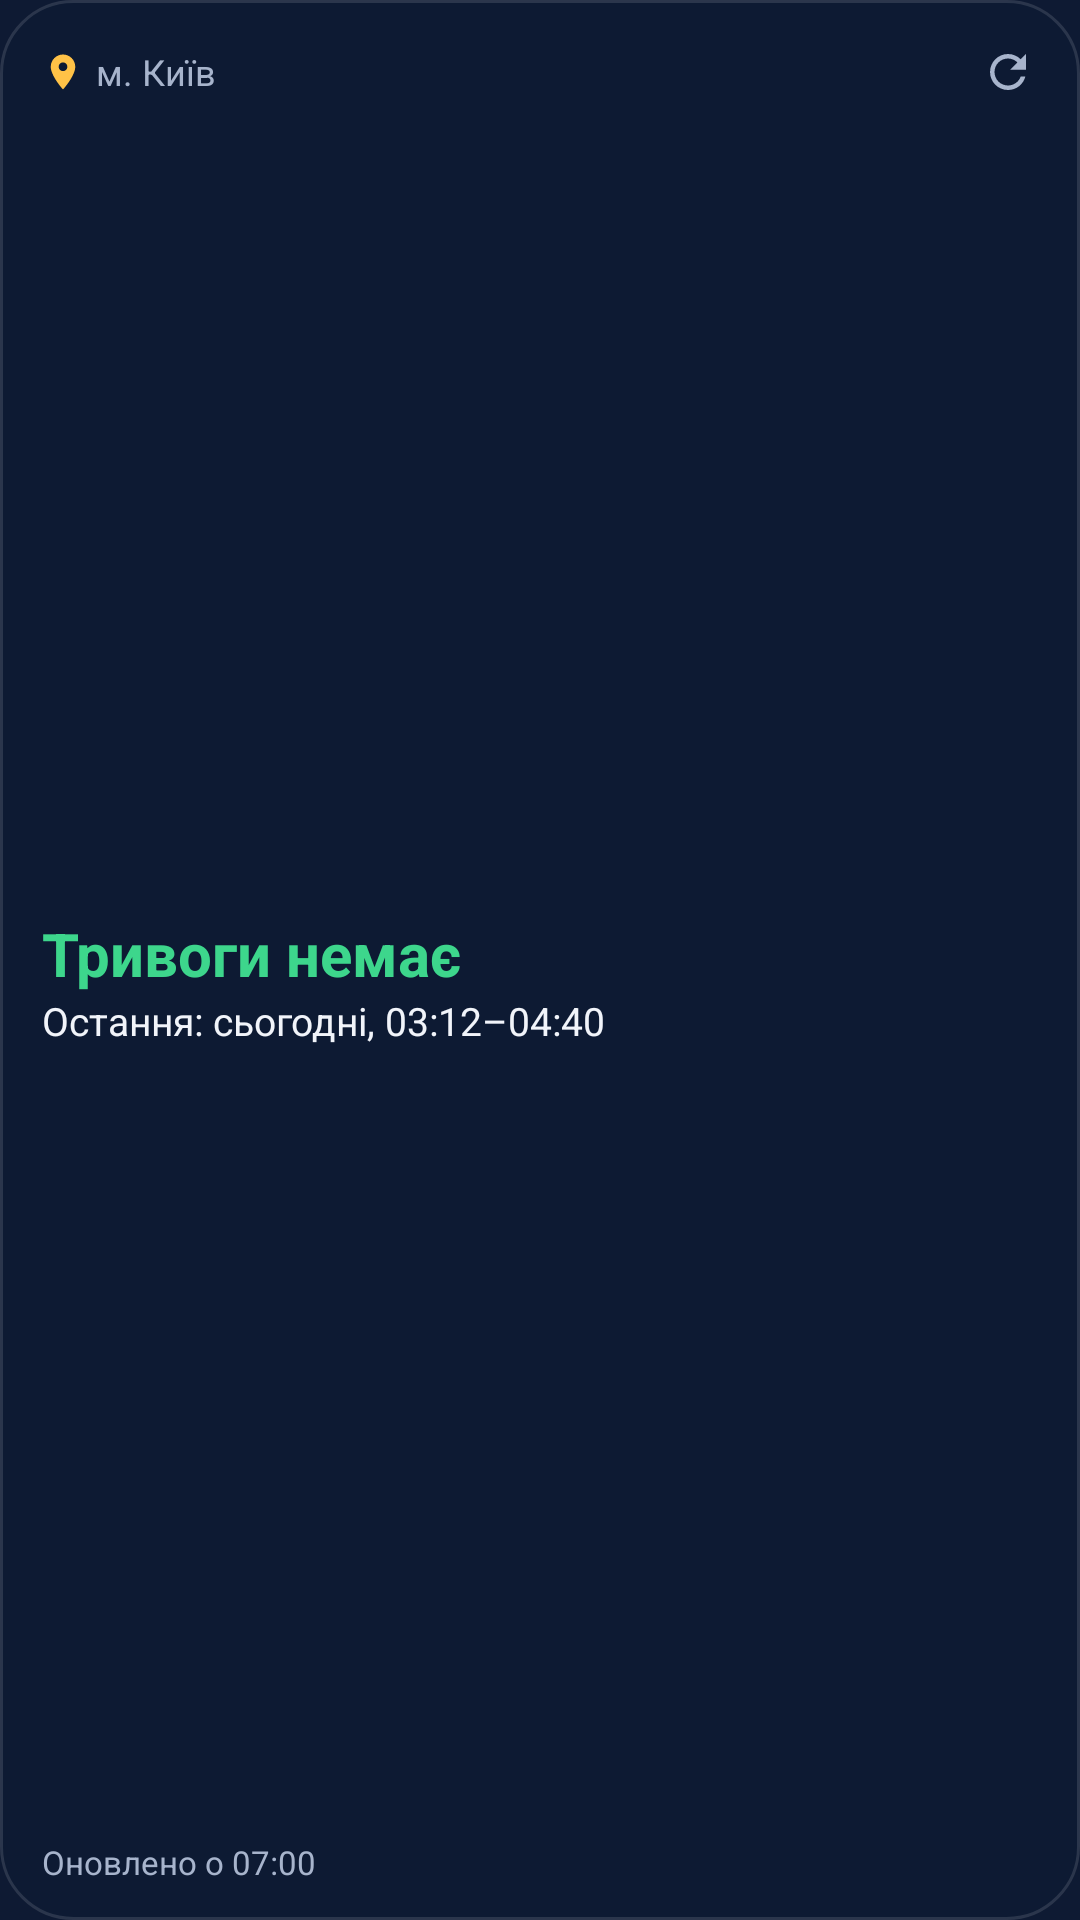

Named icons in this screenshot (1080w x 1920h) and their centers, point (x, y):
widget place: point (63, 71)
Оновити: point (1008, 72)
